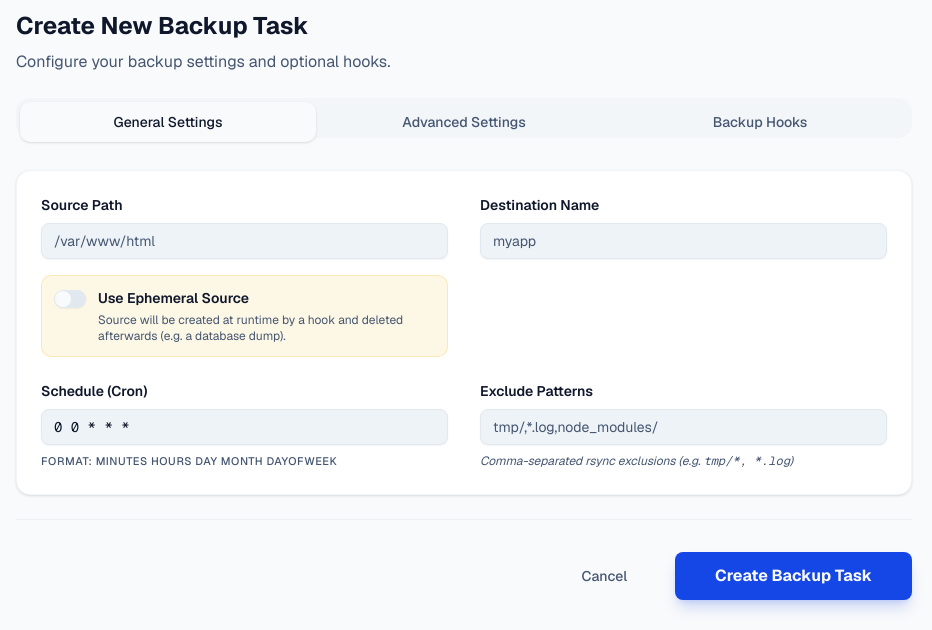
it: CreateBackupForm › Rendering › has default values for fields
This screenshot has width=932, height=630.
Click the tab "Advanced Settings" at (464, 122), box [316, 102, 612, 142]
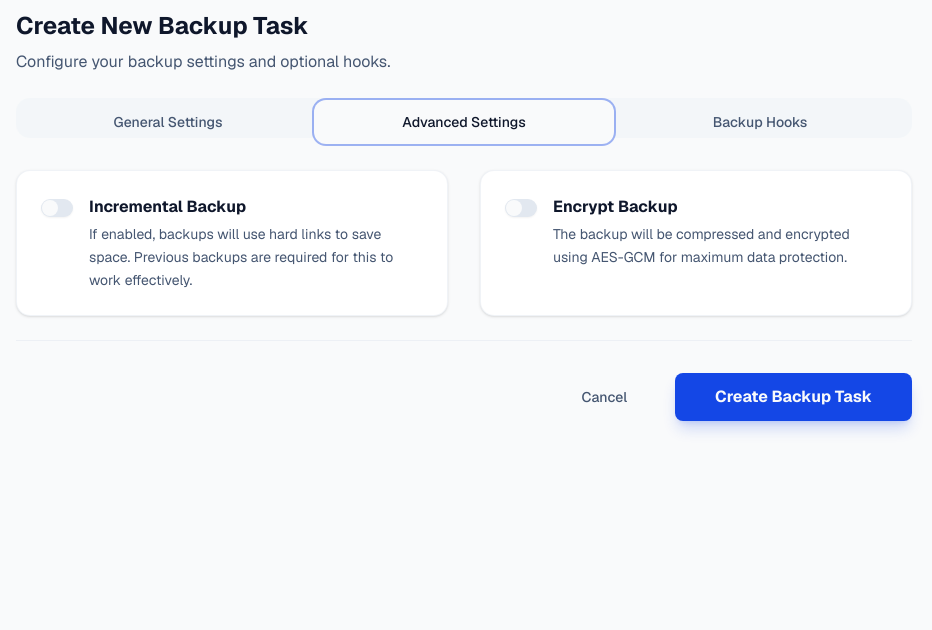
Expected: the switch named "incremental backup" next to "Incremental Backup" is not checked, [41, 199, 73, 217]
Expected: the switch named "encrypt backup" next to "Encrypt Backup" is not checked, [505, 199, 537, 217]
